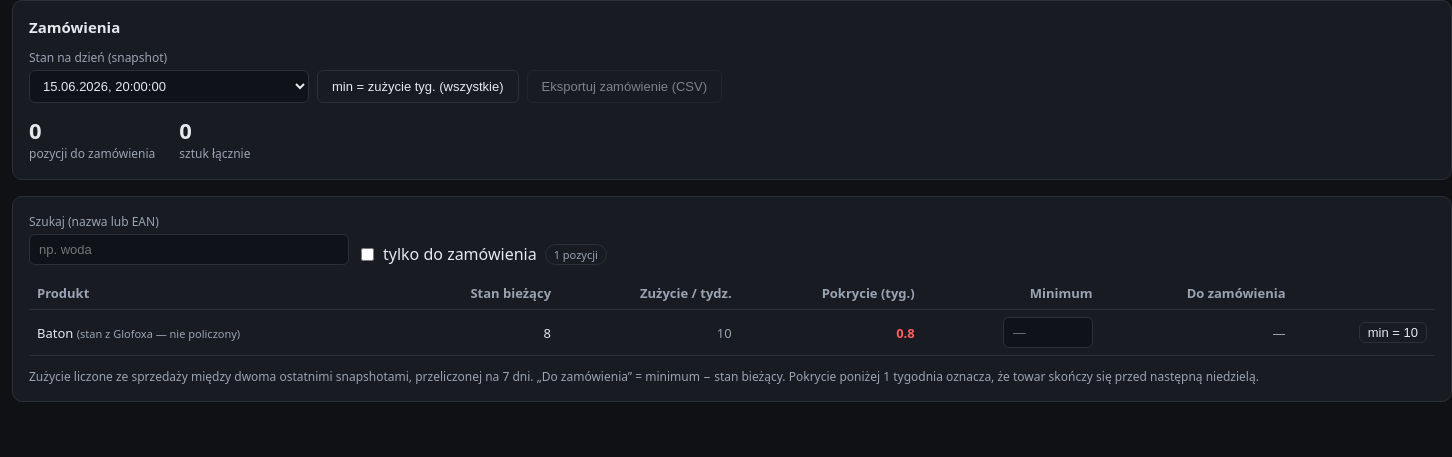
Test: OrdersView › „min = zużycie tygodniowe” ustawia minimum z realnej rotacji
Click the button "min = zużycie tyg. (wszystkie)": [418, 86] box x1=317 y1=70 x2=519 y2=103
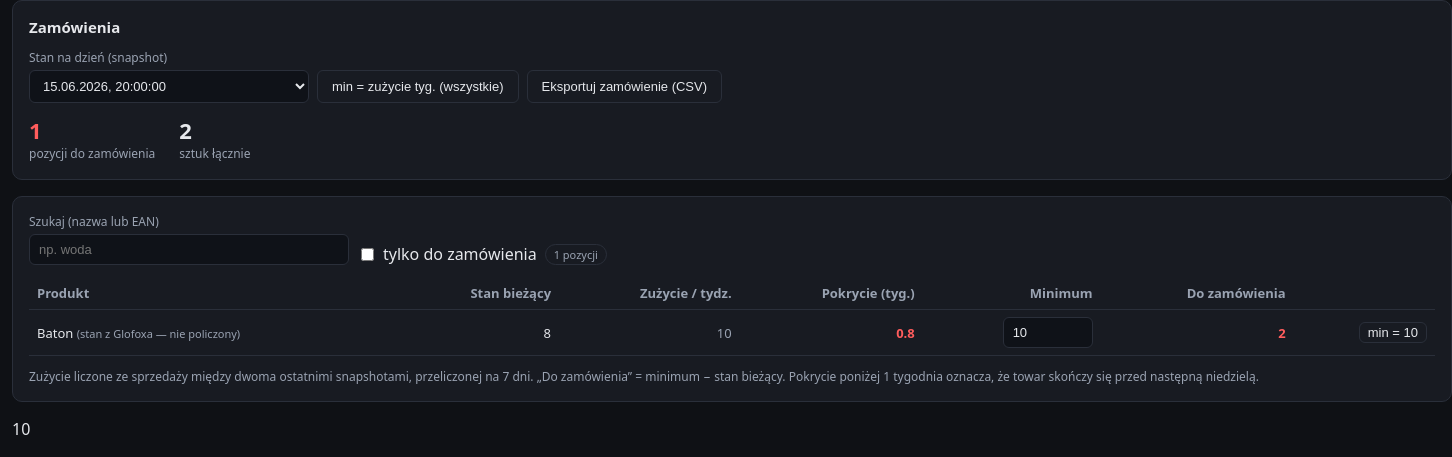
expect the text with test id "min" reads "10": met, box x1=12 y1=418 x2=30 y2=440
